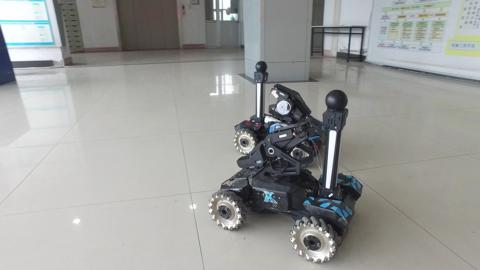chariot: (206, 87, 364, 265), (228, 56, 328, 161)
